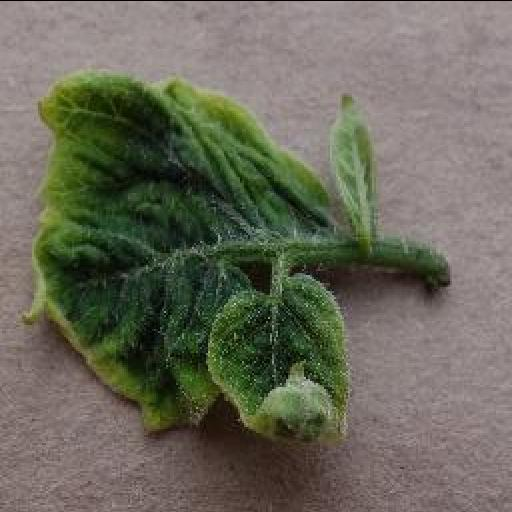disease_tomato: (22, 70, 350, 440)
